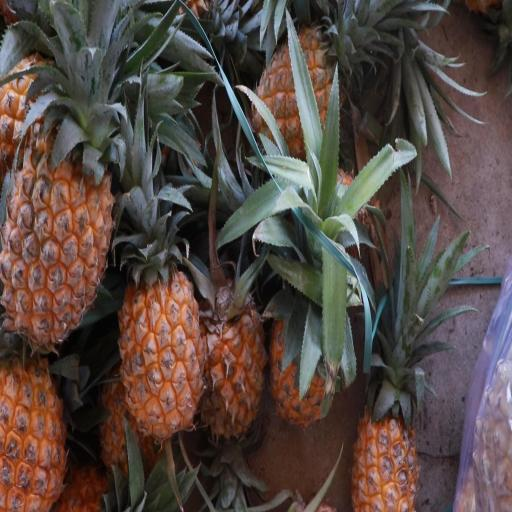Pineapple - v8 v1: (2, 104, 124, 360), (250, 18, 357, 191), (116, 263, 206, 446), (198, 267, 270, 452), (268, 267, 344, 442), (0, 366, 77, 512), (348, 374, 422, 512)
